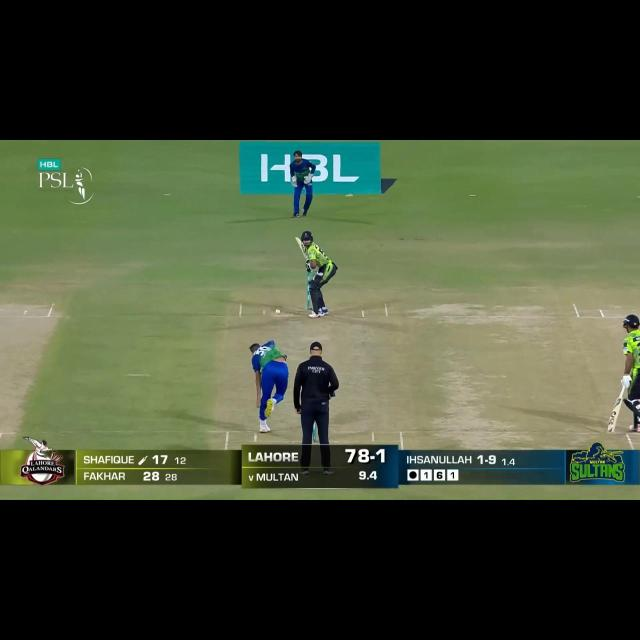bat: (604, 397, 623, 434), (293, 235, 310, 261)
toe: (602, 427, 617, 434), (294, 237, 301, 243)
